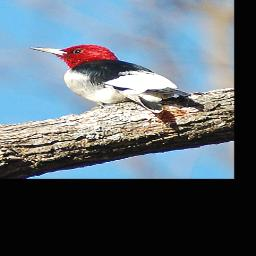Woodpecker: (25, 44, 193, 115)
